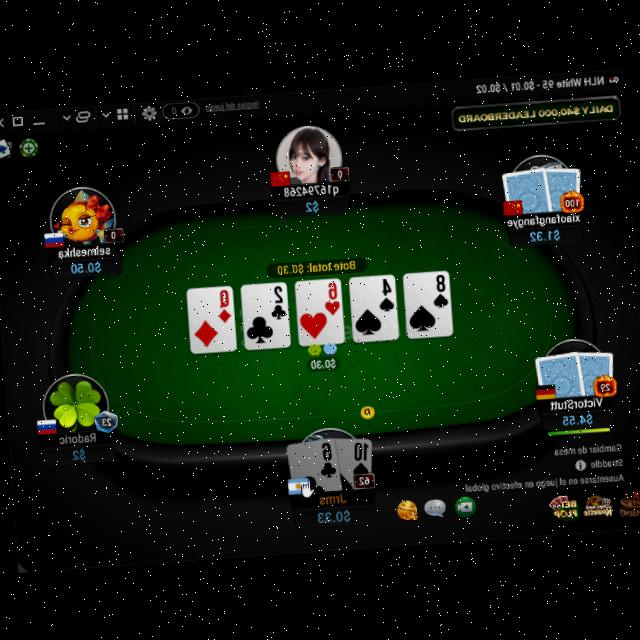2c: (268, 284, 285, 320)
4s: (376, 275, 394, 312)
6c: (316, 440, 336, 478)
6h: (322, 280, 340, 316)
8s: (432, 272, 448, 308)
Qd: (214, 288, 230, 322)
Ts: (348, 439, 371, 474)
bet_text: (308, 353, 338, 369)
card_back: (499, 162, 554, 216), (533, 347, 586, 400), (536, 160, 584, 213), (572, 346, 617, 398)
dealer: (358, 401, 376, 419)
pot_text: (274, 256, 356, 274)
stack_text: (314, 504, 351, 523), (528, 226, 562, 242), (68, 257, 102, 273), (561, 410, 594, 426), (302, 198, 320, 212), (70, 444, 87, 458)
